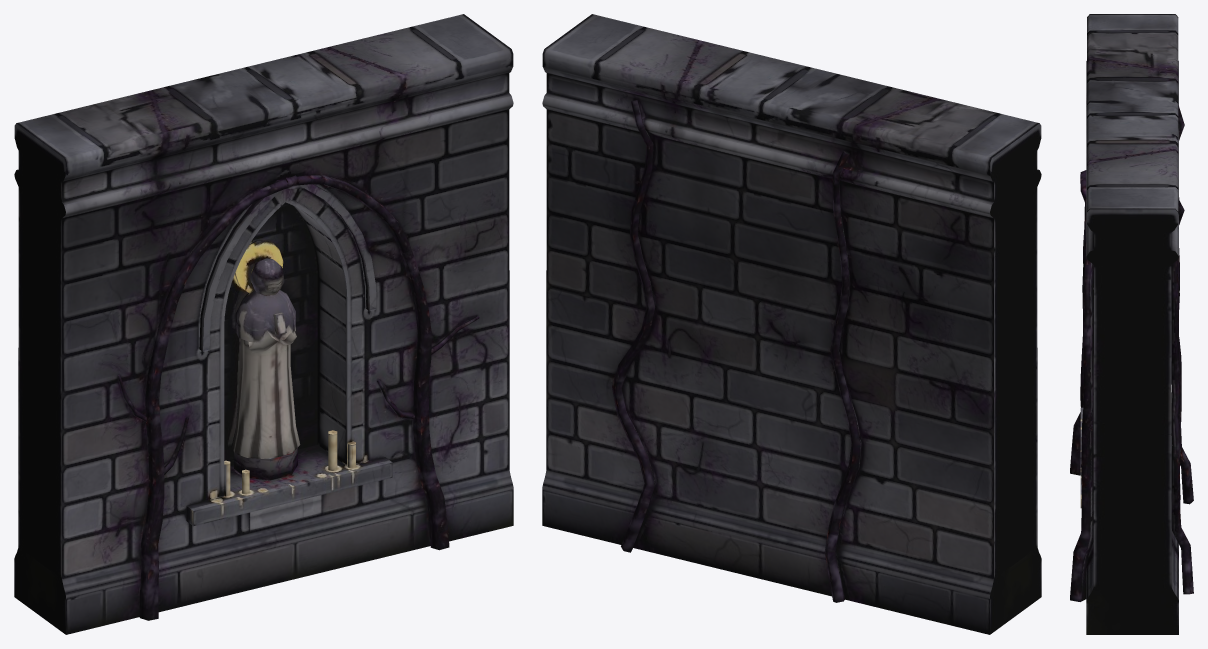
Rendered from thorn_wall_b.glb.
3 views of the same model, side by side, from view 1: azimuth 30°, elevation 25°; view 2: azimuth 150°, elevation 25°; view 3: azimuth 270°, elevation 25° (orthographic). The views are drawn at different scales.
Parts seen in each view (by area): view 1: thorn_wall_b; view 2: thorn_wall_b; view 3: thorn_wall_b.
Boxes of the visible parts, x1,y1,x2,y2 form: thorn_wall_b: (14, 14, 513, 634); thorn_wall_b: (542, 14, 1041, 634); thorn_wall_b: (1070, 14, 1193, 634).
Size of the model in its own units: 4 by 4.06 by 1.07.
Materials: 1 (1 with a texture image).
